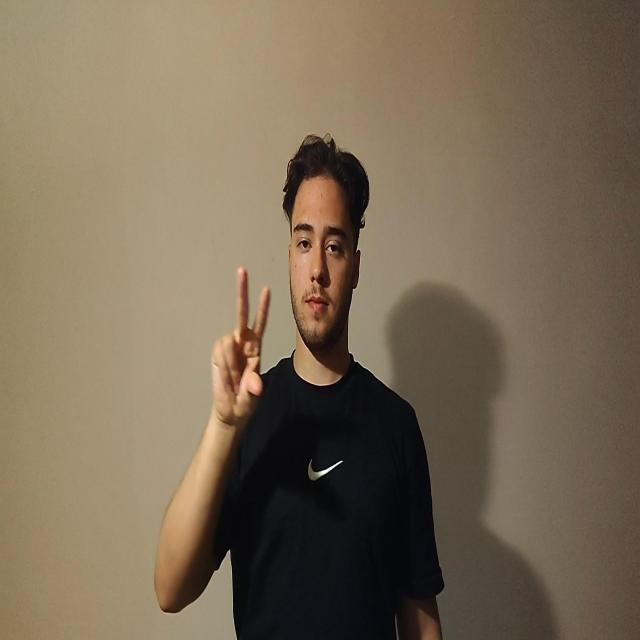no: (210, 266, 271, 427)
